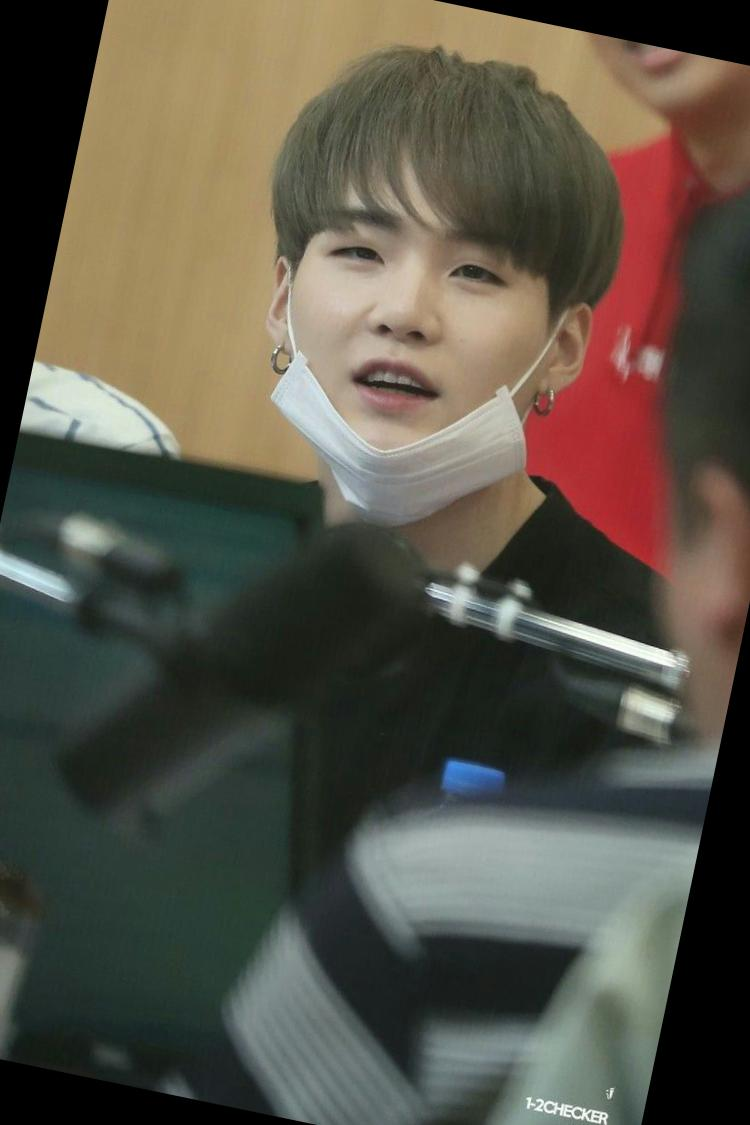mask_weared_incorrect: (265, 214, 569, 529)
